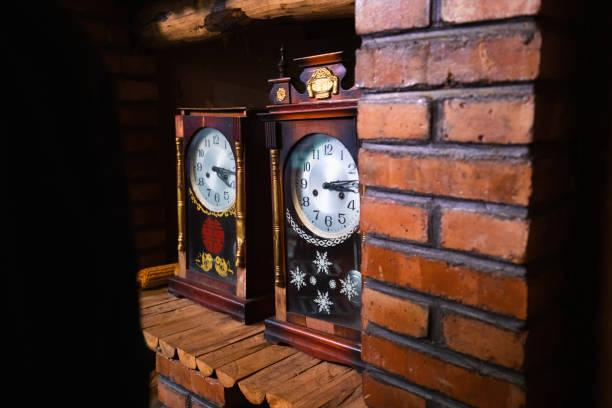clock: (289, 136, 362, 243), (188, 128, 238, 213)
